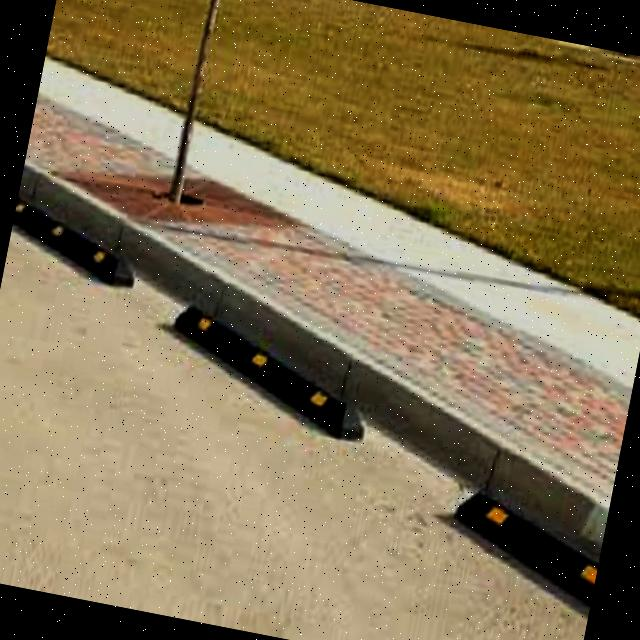curb: (135, 241, 390, 452), (446, 420, 623, 611), (5, 160, 168, 299), (362, 369, 497, 504)
